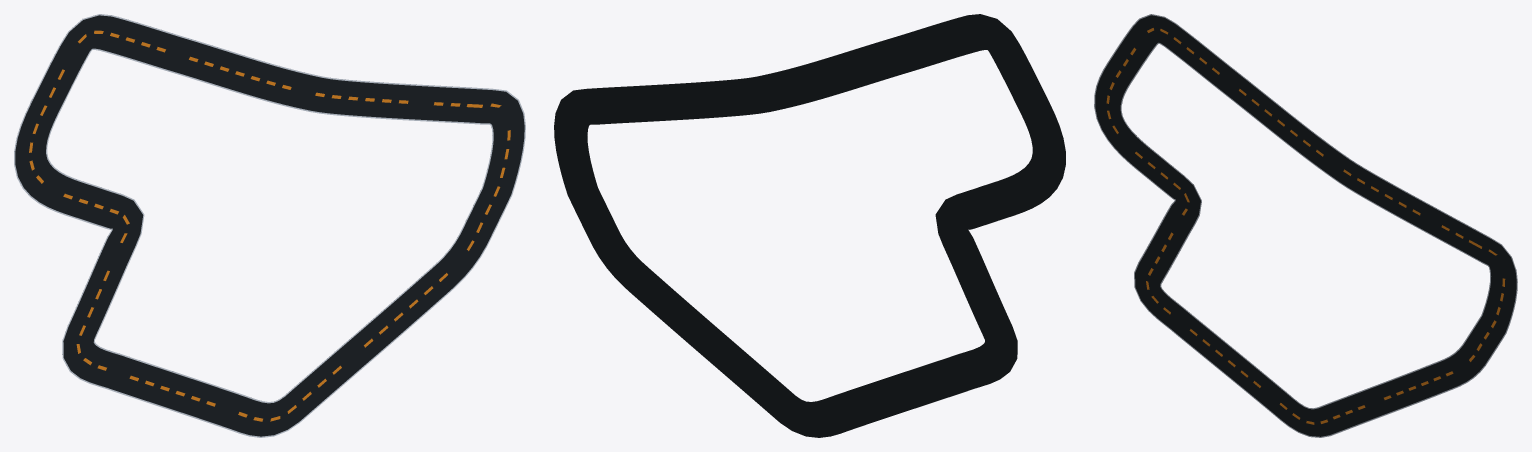
Rendered from track.obj.
The picture shows the model from 3 angles, left to right: view 1: azimuth 30°, elevation 25°; view 2: azimuth 150°, elevation 25°; view 3: azimuth 330°, elevation 25°; orthographic projection. The views are drawn at different scales.
Size of the model in its own units: 16.31 by 14.16 by 0.002.
